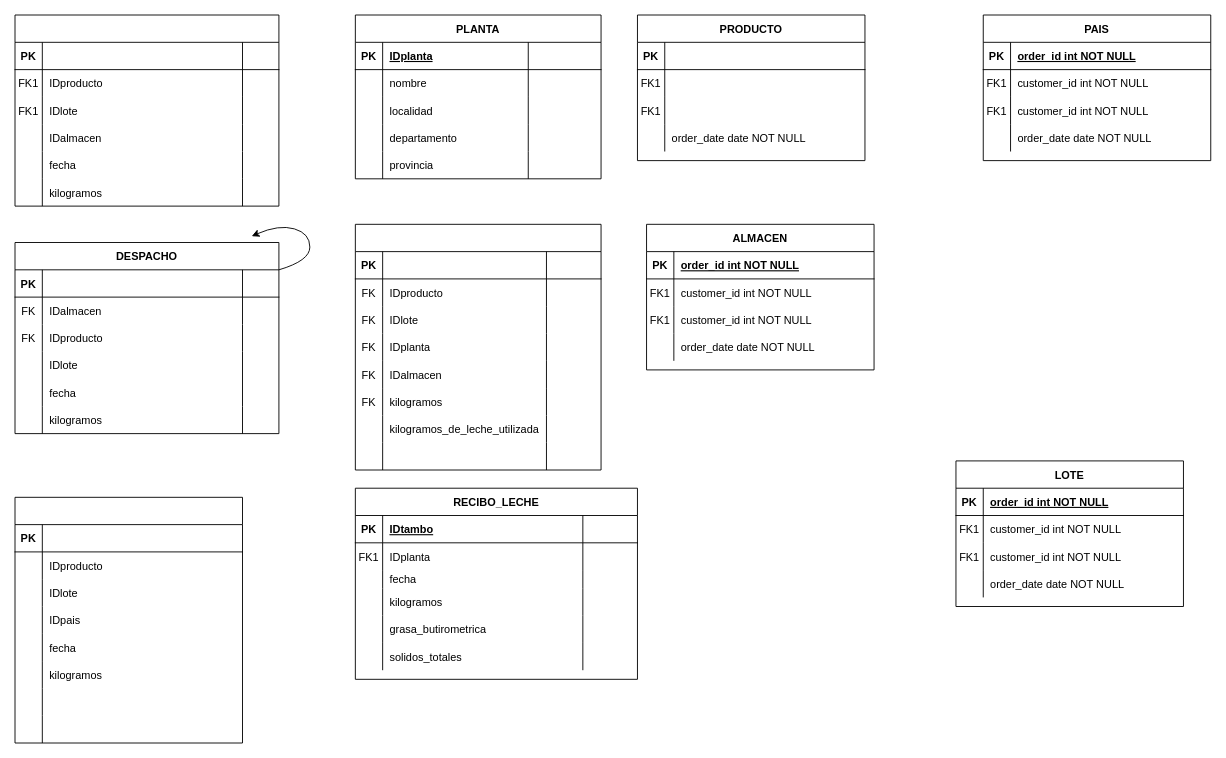
This 1226x758 diagram has some shape labels left out. The shapes that lost their labels are listed below. From the top down, each one's box as (x1, y1, x2, y2) in pixels, then its label:
(14, 14, 279, 206): INVENTARIO
(354, 223, 601, 470): PRODUCCION
(14, 496, 243, 743): DESPACHO_EXPORTACION
